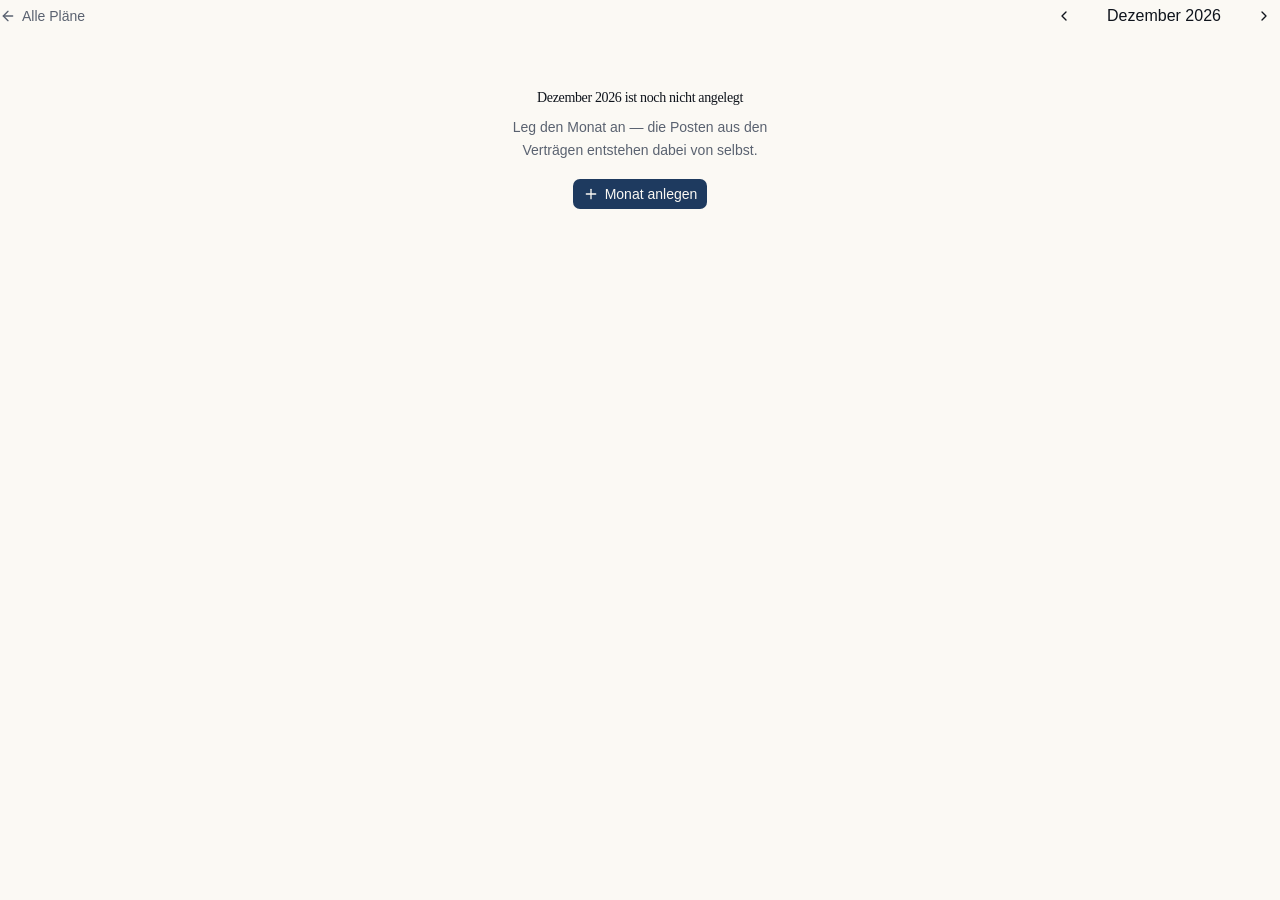
Test: PlanDetailPage › the create dialog offers the month of the new address after the route changes
This screenshot has width=1280, height=900.
Click the button "Monat anlegen" at (640, 194), box [572, 178, 708, 210]
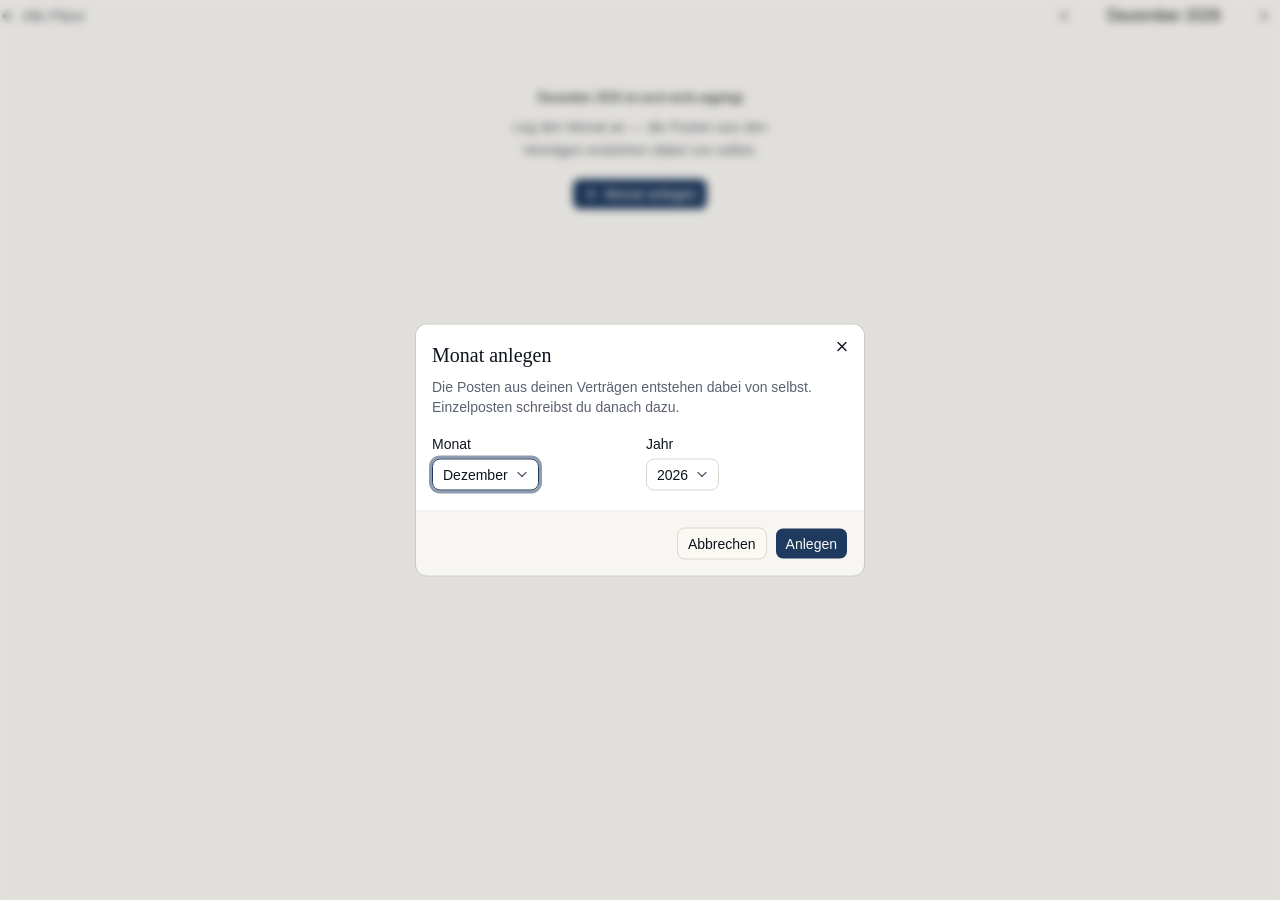
Now the dropdown labelled "Dezember" is shown, box [432, 458, 539, 490]
